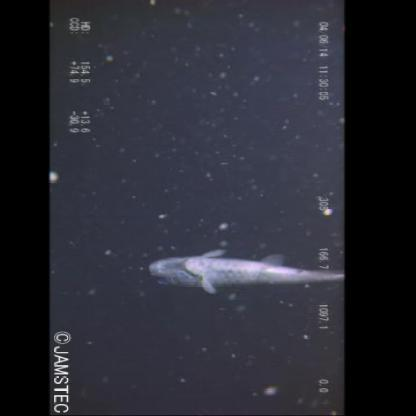Bio: (140, 242, 344, 300)
